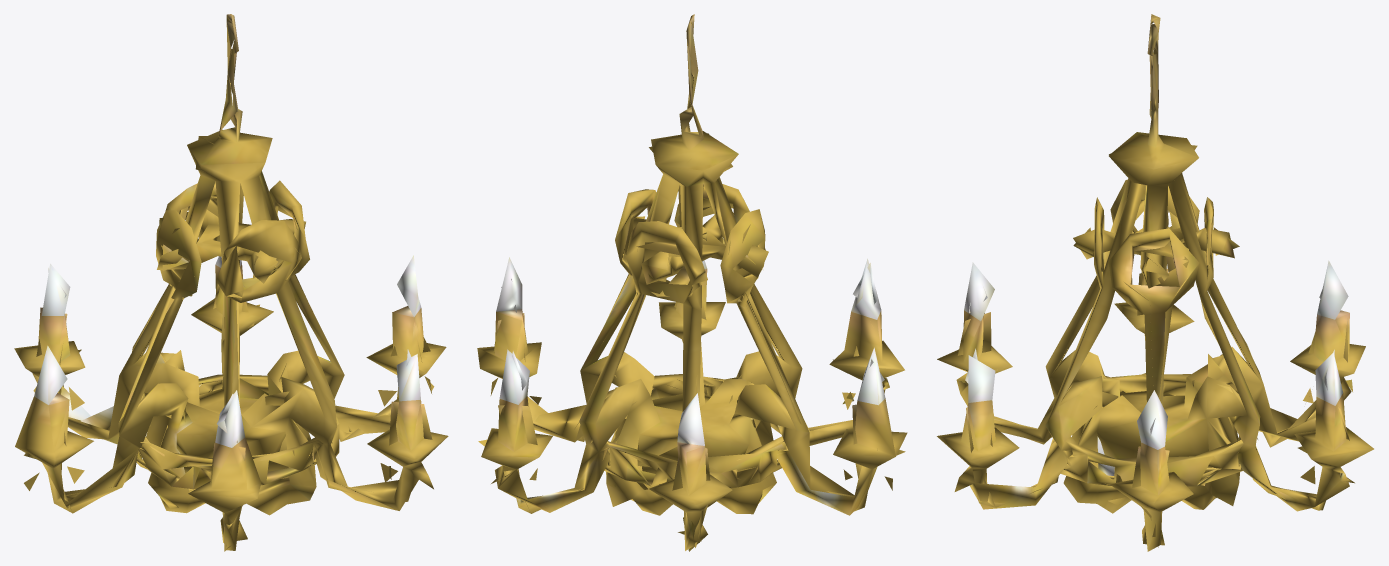
File: lg-clockwork-chandelier.glb
The picture shows the model from 3 angles, left to right: view 1: azimuth 30°, elevation 25°; view 2: azimuth 150°, elevation 25°; view 3: azimuth 270°, elevation 25°; orthographic projection.
Parts seen in each view (by area): view 1: geometry_0; view 2: geometry_0; view 3: geometry_0.
Part boxes in pixels (bbox=[...]): geometry_0: bbox=[14, 14, 448, 551]; geometry_0: bbox=[477, 14, 907, 551]; geometry_0: bbox=[937, 14, 1373, 551].
Size of the model in its own units: 0.8361 by 1 by 0.7465.
1 material, 1 textured.
